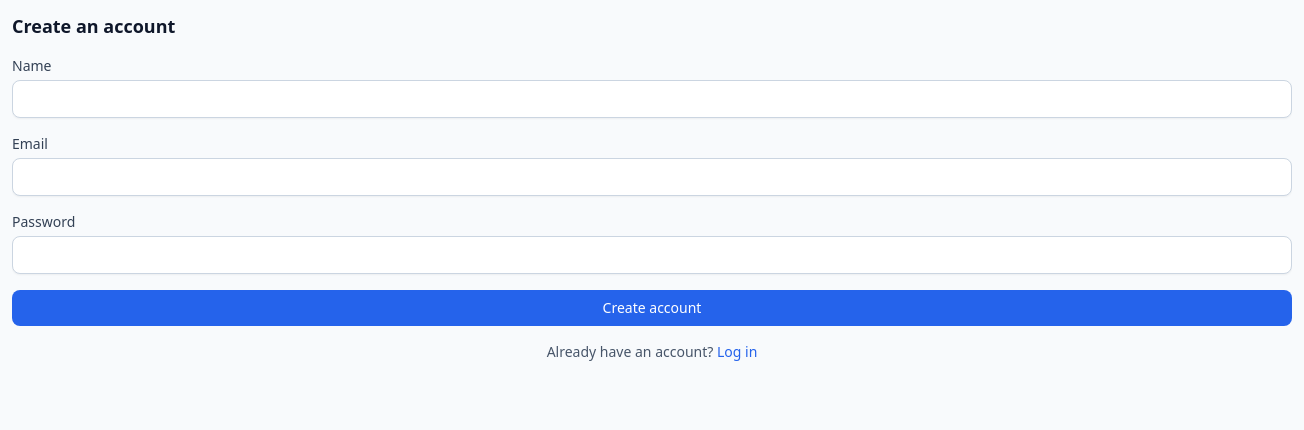
Test case: Authentication retry and registration safety › UI Component integration (LoginPage & RegisterPage) › RegisterPage: manual retry after uncertain registration does not duplicate account if previous succeeded
Type "Jane" into the field labelled "Name".
click(652, 99); type("Jane")  # box 12,80 -> 1292,118
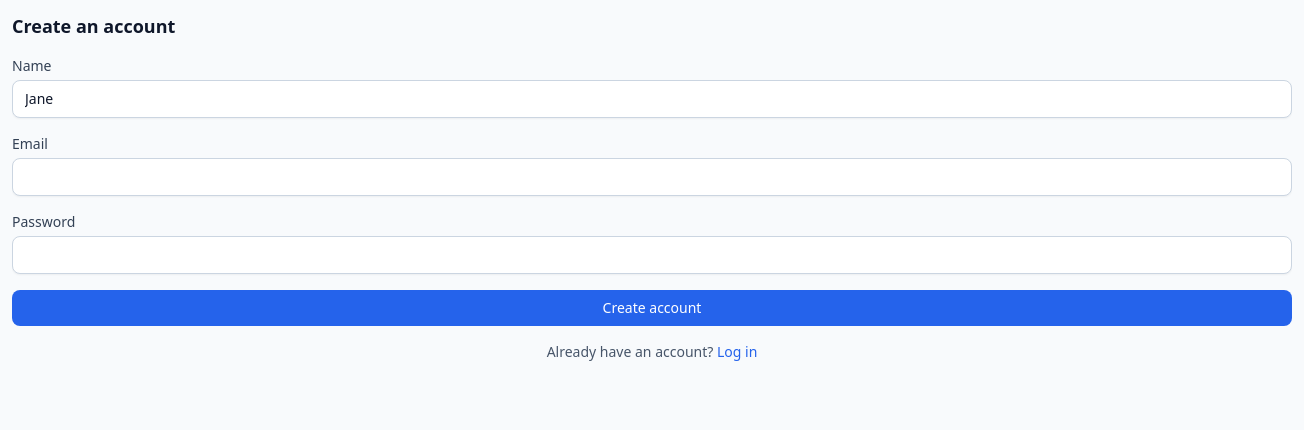
Type "jane@example.com" into the field labelled "Email".
click(652, 177); type("jane@example.com")  # box 12,158 -> 1292,196
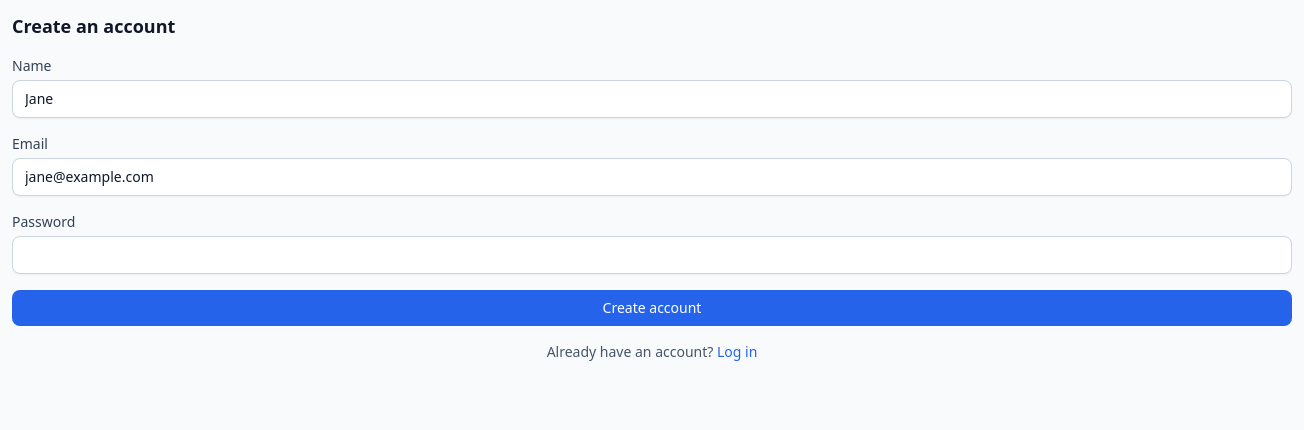
Type "Password123" into the password field labelled "Password".
click(652, 255); type("Password123")  # box 12,236 -> 1292,274
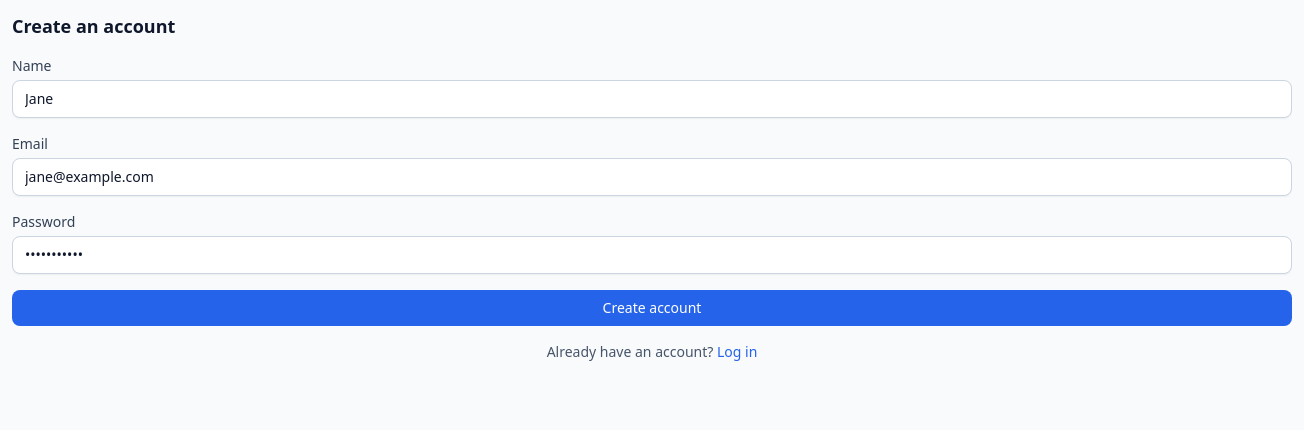
Click the button "Create account".
click(652, 308)  # box 12,290 -> 1292,326
Wait 1500 ms
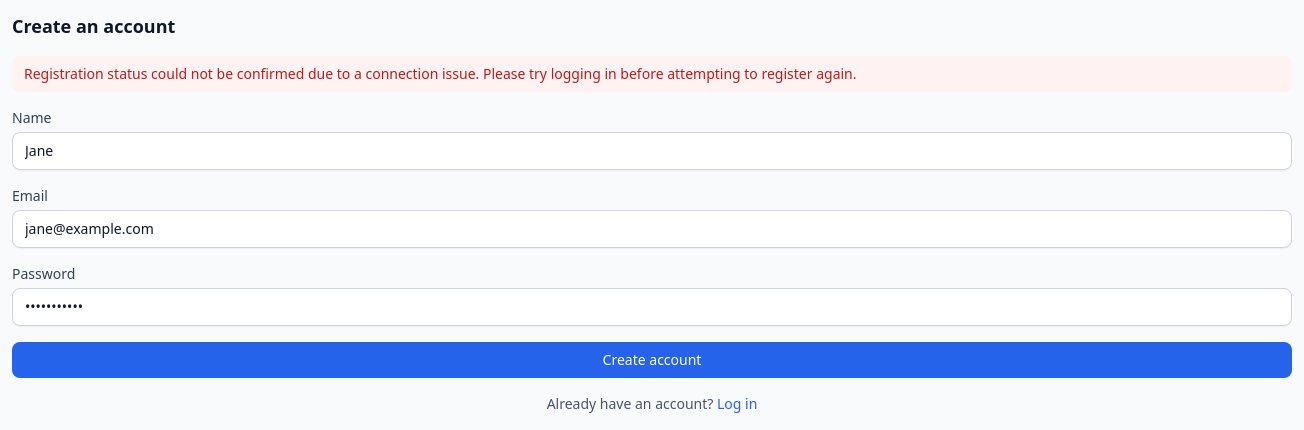
Expected: the text "Registration status could not be confirmed due to a connection issue. Please try logging in before attempting to registe" is shown, 24,64 -> 856,83
Click the button "Create account".
click(652, 360)  # box 12,342 -> 1292,378
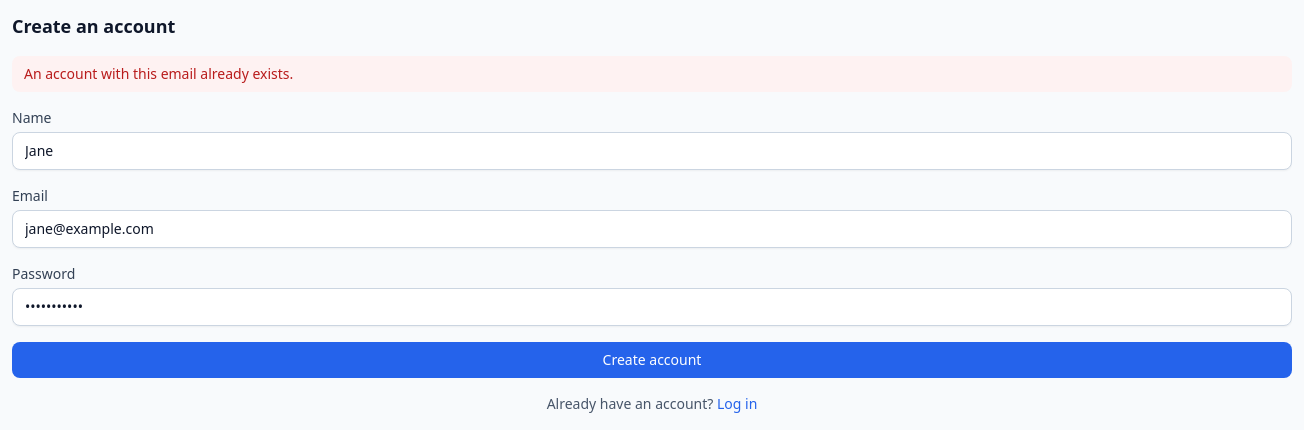
Expected: the text "An account with this email already exists." is shown, 12,56 -> 1292,92
